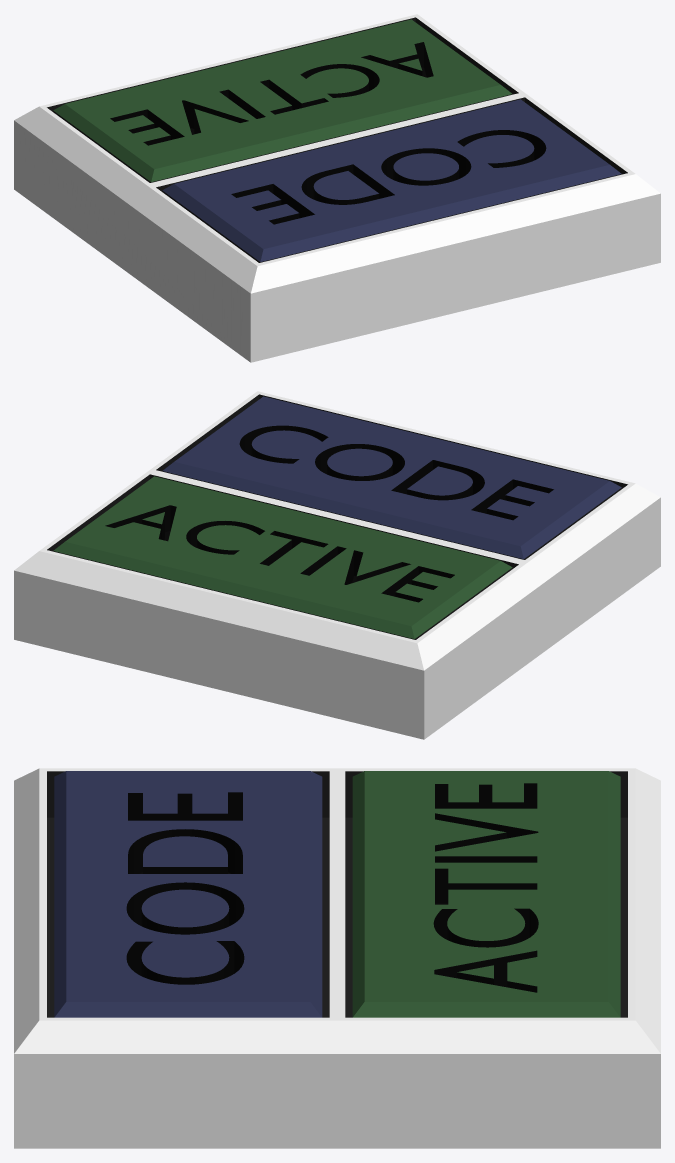
Rendered from HudController.gltf.
The picture shows the model from 3 angles, top to bottom: view 1: azimuth 30°, elevation 25°; view 2: azimuth 150°, elevation 25°; view 3: azimuth 270°, elevation 25°; orthographic projection. The views are drawn at different scales.
Parts seen in each view (by area): view 1: base; view 2: base; view 3: base.
Part boxes in pixels (x1=…): base: x1=14, y1=14, x2=660, y2=362; base: x1=14, y1=391, x2=660, y2=739; base: x1=14, y1=768, x2=660, y2=1148.
Size of the model in its own units: 0.25 by 0.0741 by 0.25.
